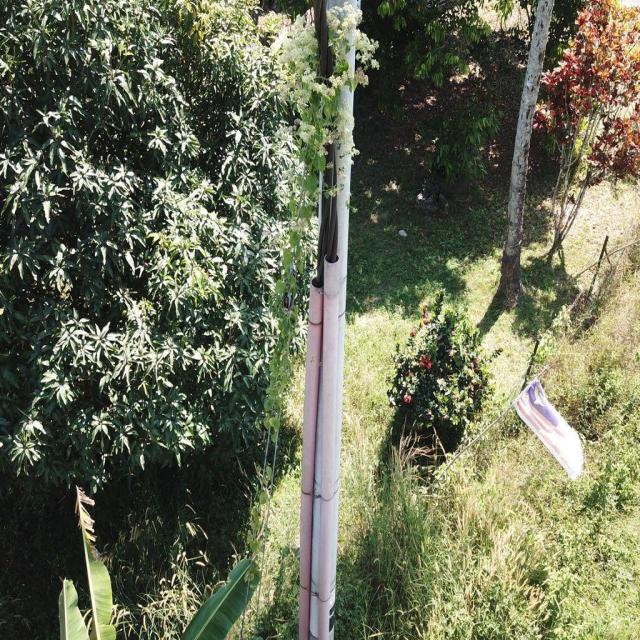light_pole: (238, 23, 385, 599)
